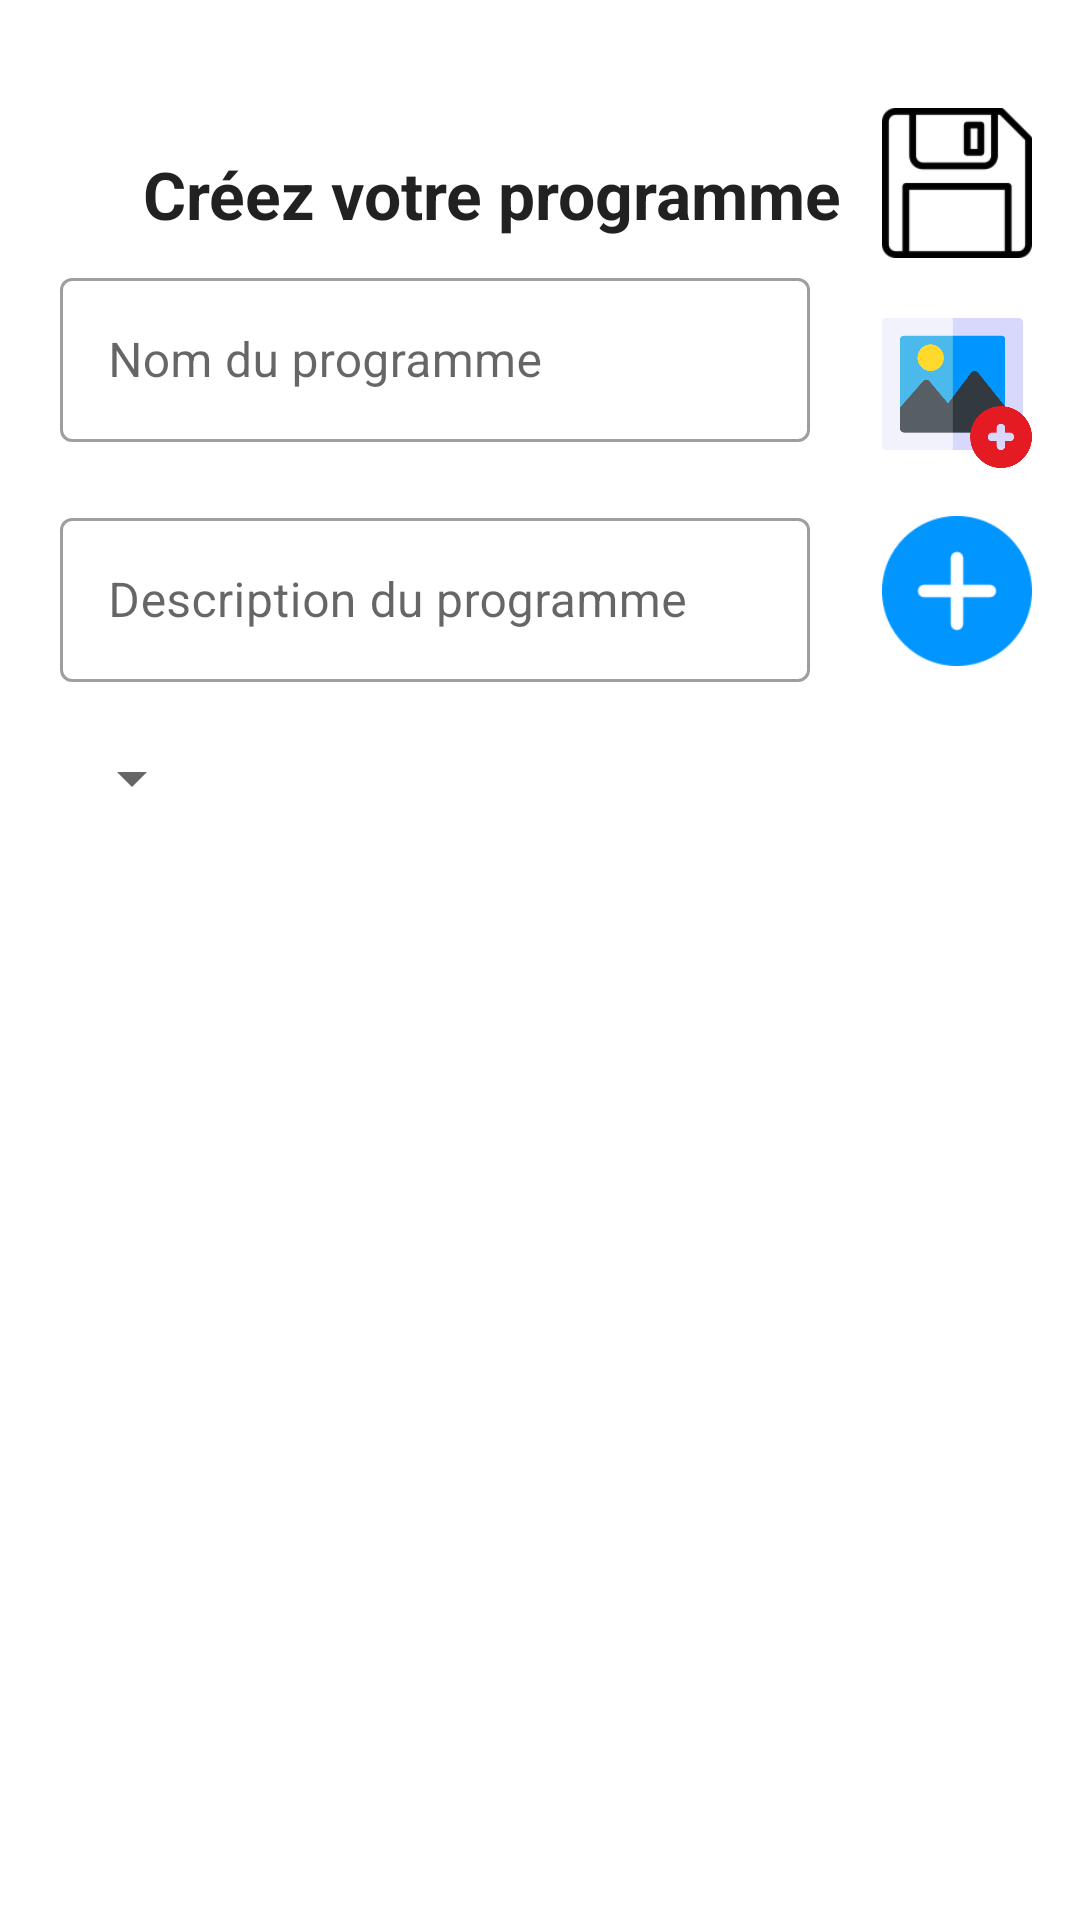

Named icons in this screenshot (1080 x 1920) and their bounding boxes, (x1, y1, x2, y2):
addexo: (882, 516, 1032, 666)
addpicture: (900, 318, 1032, 468)
save: (882, 108, 1032, 258)
